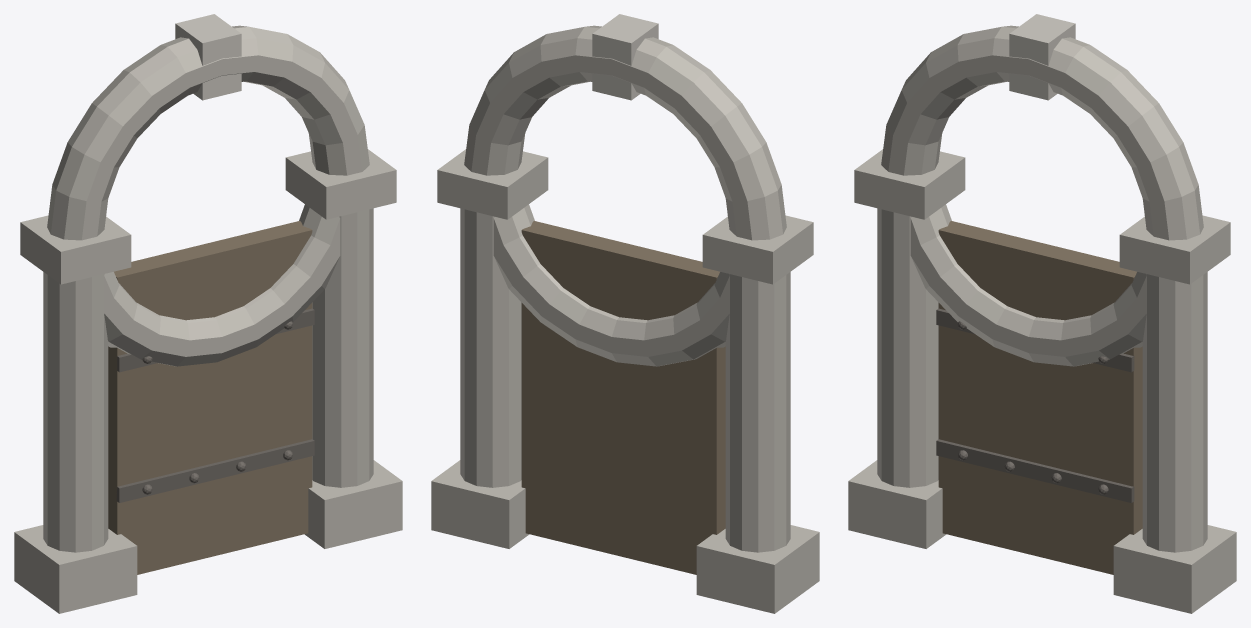
Rendered from wicket_gate.glb.
3 renders of one model, left to right at view 1: azimuth 30°, elevation 25°; view 2: azimuth 150°, elevation 25°; view 3: azimuth 330°, elevation 25°, orthographic.
Parts seen in each view (by area): view 1: wicket_gate_10, wicket_gate_8, wicket_gate_1, wicket_gate_5, wicket_gate_0, wicket_gate_4, wicket_gate_6, wicket_gate_2, wicket_gate_11, wicket_gate_9, wicket_gate_12; view 2: wicket_gate_10, wicket_gate_8, wicket_gate_1, wicket_gate_5, wicket_gate_0, wicket_gate_4, wicket_gate_6, wicket_gate_2, wicket_gate_9; view 3: wicket_gate_10, wicket_gate_8, wicket_gate_5, wicket_gate_1, wicket_gate_4, wicket_gate_0, wicket_gate_2, wicket_gate_6, wicket_gate_11, wicket_gate_9, wicket_gate_12.
Part boxes in pixels (left/top/right/bottom): wicket_gate_10: left=108, top=221, right=312, bottom=574; wicket_gate_8: left=47, top=25, right=369, bottom=366; wicket_gate_1: left=43, top=272, right=108, bottom=552; wicket_gate_5: left=312, top=208, right=373, bottom=487; wicket_gate_0: left=14, top=525, right=137, bottom=613; wicket_gate_4: left=305, top=460, right=402, bottom=548; wicket_gate_6: left=285, top=149, right=396, bottom=219; wicket_gate_2: left=20, top=215, right=131, bottom=284; wicket_gate_11: left=116, top=439, right=314, bottom=502; wicket_gate_9: left=175, top=14, right=241, bottom=100; wicket_gate_12: left=117, top=308, right=314, bottom=372; wicket_gate_10: left=521, top=221, right=725, bottom=574; wicket_gate_8: left=464, top=25, right=786, bottom=366; wicket_gate_1: left=725, top=272, right=790, bottom=552; wicket_gate_5: left=460, top=208, right=521, bottom=487; wicket_gate_0: left=696, top=525, right=819, bottom=613; wicket_gate_4: left=431, top=460, right=528, bottom=548; wicket_gate_6: left=437, top=149, right=548, bottom=219; wicket_gate_2: left=702, top=215, right=813, bottom=284; wicket_gate_9: left=592, top=14, right=658, bottom=100; wicket_gate_10: left=938, top=221, right=1142, bottom=574; wicket_gate_8: left=881, top=25, right=1203, bottom=366; wicket_gate_5: left=1142, top=272, right=1207, bottom=552; wicket_gate_1: left=877, top=208, right=938, bottom=487; wicket_gate_4: left=1113, top=525, right=1236, bottom=613; wicket_gate_0: left=848, top=460, right=945, bottom=548; wicket_gate_2: left=854, top=149, right=965, bottom=219; wicket_gate_6: left=1119, top=215, right=1230, bottom=284; wicket_gate_11: left=936, top=439, right=1134, bottom=502; wicket_gate_9: left=1009, top=14, right=1075, bottom=100; wicket_gate_12: left=936, top=308, right=1134, bottom=372.
Size of the model in its own units: 4.4 by 6.45 by 1.
